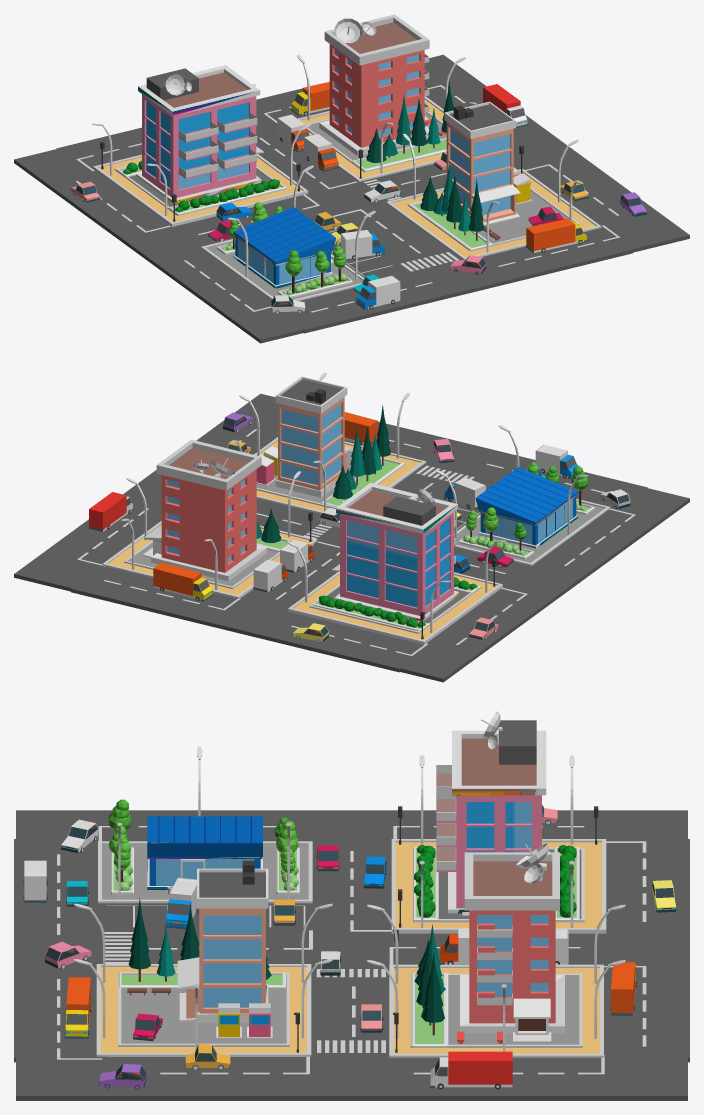
The model's file is city_camera_animation_continuity_bake.glb.
The picture shows the model from 3 angles, top to bottom: view 1: azimuth 30°, elevation 25°; view 2: azimuth 150°, elevation 25°; view 3: azimuth 270°, elevation 25°; orthographic projection. The views are drawn at different scales.
Visible parts, largest first — view 1: ROAD, House, House_1, House_2, Shop, Floor, Floor_2, ROAD.Lines.12, Floor.4_3, Floor.4_2, Car_08.5, Floor_1 (+15 smaller); view 2: ROAD, House, House_1, House_2, Shop, Floor, ROAD.Lines.12, Floor.4_3, Floor_1, Car_08.3, Floor_2, Car_08.4 (+12 smaller); view 3: ROAD, House_1, House, House_2, Shop, Floor_2, Floor_1, Floor.4_2, Floor, ROAD.Lines.12, Floor.4_3, Floor.4_1 (+29 smaller).
Boxes of the visible parts, x1,y1,x2,y2 form: ROAD: (14, 54, 689, 343); House: (136, 65, 263, 203); House_1: (319, 14, 429, 155); House_2: (444, 101, 520, 225); Shop: (233, 207, 335, 288); Floor: (93, 153, 308, 226); Floor_2: (386, 168, 601, 259); ROAD.Lines.12: (76, 85, 619, 312); Floor.4_3: (201, 239, 364, 301); Floor.4_2: (407, 187, 579, 251); Car_08.5: (526, 218, 587, 252); Floor_1: (297, 96, 443, 181); ROAD: (14, 393, 689, 682); House: (331, 483, 459, 621); House_1: (142, 439, 266, 581); House_2: (275, 376, 351, 497); Shop: (475, 467, 578, 548); Floor: (288, 571, 502, 644); ROAD.Lines.12: (77, 429, 635, 655); Floor.4_3: (454, 498, 610, 565); Floor_1: (102, 521, 317, 598); Car_08.3: (153, 562, 213, 601); Floor_2: (254, 437, 426, 513); Car_08.4: (88, 492, 133, 531); ROAD: (14, 810, 689, 1100); House_1: (460, 852, 564, 1042); House: (436, 720, 549, 915); House_2: (177, 860, 268, 1022); Shop: (147, 816, 262, 889); Floor_2: (96, 964, 311, 1056); Floor_1: (389, 964, 603, 1057); Floor.4_2: (118, 972, 289, 1046); Floor: (391, 839, 606, 933); ROAD.Lines.12: (57, 826, 646, 1074); Floor.4_3: (98, 841, 312, 903); Floor.4_1: (411, 973, 582, 1047).
Size of the model in its own units: 219 by 60.88 by 219.
1 material, 1 textured.
